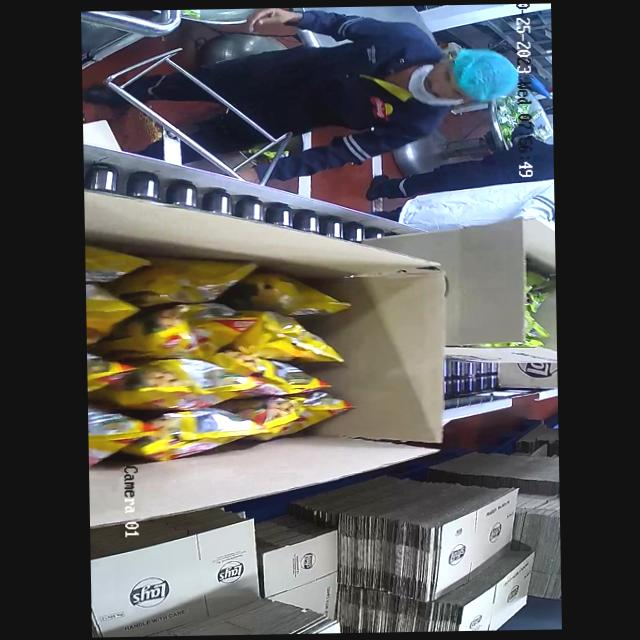salted: (84, 247, 358, 467)
